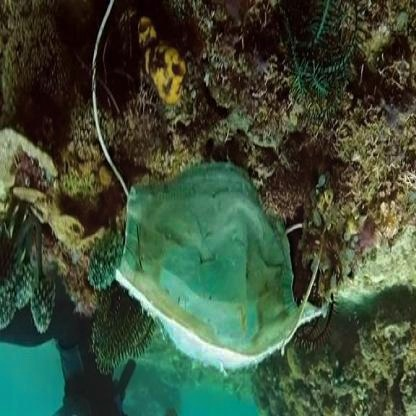misc: (112, 129, 312, 363)
